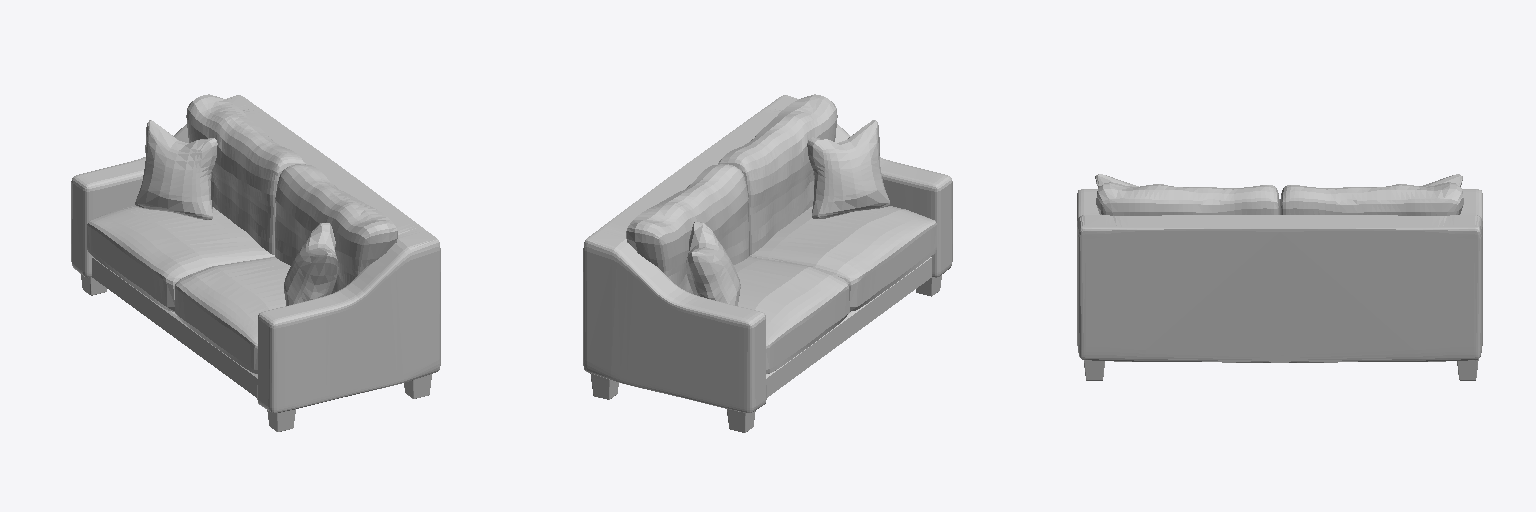
Rendered from ready.obj.
3 renders of one model, left to right at view 1: azimuth 30°, elevation 25°; view 2: azimuth 150°, elevation 25°; view 3: azimuth 270°, elevation 25°, orthographic.
Parts seen in each view (by area): view 1: ready; view 2: ready; view 3: ready.
Boxes of the visible parts, box(x1,y1,x2,y2) form: ready: box(71, 94, 440, 431); ready: box(583, 94, 952, 432); ready: box(1077, 174, 1482, 380).
Bounding box in the file's own units: 9.75 × 9.5 × 20.